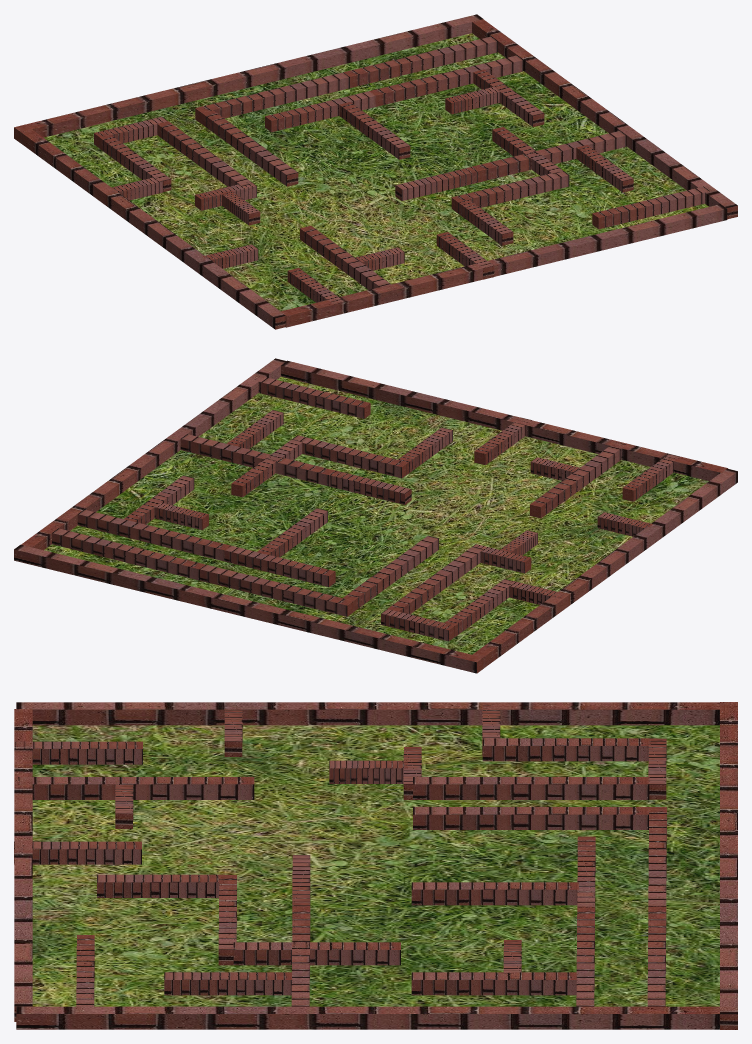
File: maze2.obj
3 renders of one model, top to bottom at view 1: azimuth 30°, elevation 25°; view 2: azimuth 150°, elevation 25°; view 3: azimuth 270°, elevation 25°, orthographic. The views are drawn at different scales.
Parts seen in each view (by area): view 1: Plane, Cube.005_Cube.007, Cube.002_Cube.007, Cube.003_Cube.007, Cube.001_Cube.007, Cube.004_Cube.007, Cube.006_Cube.007, Cube.008_Cube.007, Cube.012_Cube.007, Cube.007, Cube.014_Cube.007, Cube.013_Cube.007 (+19 smaller); view 2: Plane, Cube.005_Cube.007, Cube.002_Cube.007, Cube.003_Cube.007, Cube.001_Cube.007, Cube.006_Cube.007, Cube.008_Cube.007, Cube.004_Cube.007, Cube.012_Cube.007, Cube.014_Cube.007, Cube.030_Cube.007, Cube.009_Cube.007 (+19 smaller); view 3: Plane, Cube.001_Cube.007, Cube.003_Cube.007, Cube.005_Cube.007, Cube.002_Cube.007, Cube.022_Cube.007, Cube.007, Cube.030_Cube.007, Cube.019_Cube.007, Cube.024_Cube.007, Cube.010_Cube.007, Cube.011_Cube.007 (+19 smaller).
Boxes of the visible parts, left/top/right/bottom form: Plane: left=44, top=33, right=708, bottom=311; Cube.005_Cube.007: left=14, top=14, right=483, bottom=142; Cube.002_Cube.007: left=280, top=204, right=727, bottom=327; Cube.003_Cube.007: left=20, top=129, right=285, bottom=329; Cube.001_Cube.007: left=472, top=19, right=737, bottom=219; Cube.004_Cube.007: left=344, top=36, right=497, bottom=87; Cube.006_Cube.007: left=195, top=72, right=349, bottom=123; Cube.008_Cube.007: left=369, top=55, right=523, bottom=106; Cube.012_Cube.007: left=472, top=130, right=626, bottom=181; Cube.007: left=201, top=110, right=298, bottom=186; Cube.014_Cube.007: left=592, top=186, right=709, bottom=229; Cube.013_Cube.007: left=451, top=170, right=569, bottom=211; Plane: left=44, top=376, right=708, bottom=654; Cube.005_Cube.007: left=14, top=544, right=483, bottom=673; Cube.002_Cube.007: left=281, top=360, right=727, bottom=480; Cube.003_Cube.007: left=472, top=468, right=737, bottom=668; Cube.001_Cube.007: left=21, top=358, right=286, bottom=550; Cube.006_Cube.007: left=200, top=564, right=353, bottom=616; Cube.008_Cube.007: left=77, top=509, right=230, bottom=561; Cube.004_Cube.007: left=52, top=528, right=205, bottom=580; Cube.012_Cube.007: left=180, top=434, right=334, bottom=486; Cube.014_Cube.007: left=254, top=376, right=370, bottom=418; Cube.030_Cube.007: left=530, top=442, right=625, bottom=518; Cube.009_Cube.007: left=224, top=545, right=335, bottom=586; Plane: left=32, top=725, right=719, bottom=1006; Cube.001_Cube.007: left=16, top=1006, right=719, bottom=1029; Cube.003_Cube.007: left=16, top=702, right=719, bottom=725; Cube.005_Cube.007: left=720, top=702, right=737, bottom=1029; Cube.002_Cube.007: left=14, top=709, right=32, bottom=1021; Cube.022_Cube.007: left=413, top=777, right=649, bottom=799; Cube.007: left=413, top=807, right=649, bottom=829; Cube.030_Cube.007: left=18, top=777, right=254, bottom=799; Cube.019_Cube.007: left=411, top=882, right=578, bottom=905; Cube.024_Cube.007: left=482, top=738, right=649, bottom=761; Cube.010_Cube.007: left=411, top=972, right=578, bottom=995; Cube.011_Cube.007: left=233, top=942, right=400, bottom=965.
Bounding box in the file's own units: 20.76 × 0.52 × 20.34.
